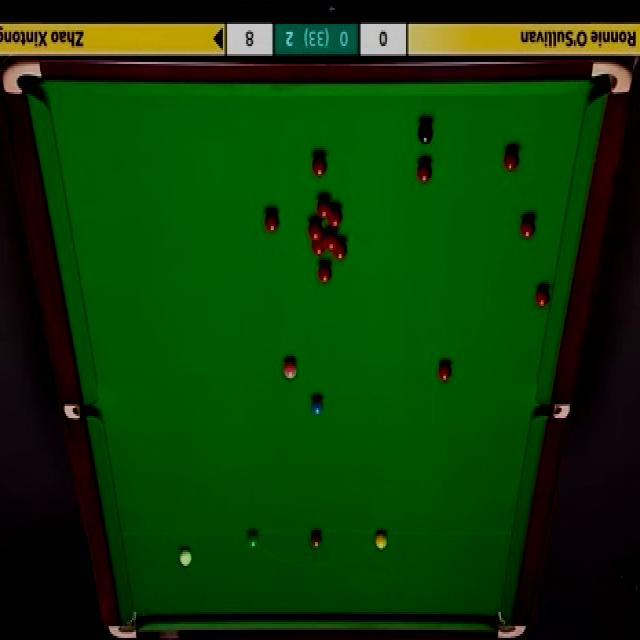black-ball: (416, 122, 434, 146)
blue-ball: (310, 393, 324, 418)
brown-ball: (310, 531, 323, 550)
green-ball: (246, 531, 259, 550)
pink-ball: (282, 356, 298, 378)
red-ball: (502, 148, 522, 174), (533, 282, 552, 309), (310, 152, 328, 178), (521, 216, 538, 242), (315, 262, 334, 284), (332, 238, 348, 264), (416, 160, 432, 184), (307, 210, 324, 232), (264, 210, 280, 233), (310, 232, 326, 255), (328, 206, 343, 230), (323, 230, 339, 250), (438, 362, 452, 380), (316, 223, 330, 240)
white-ball: (178, 545, 192, 567)
yellow-ball: (375, 531, 388, 550)
